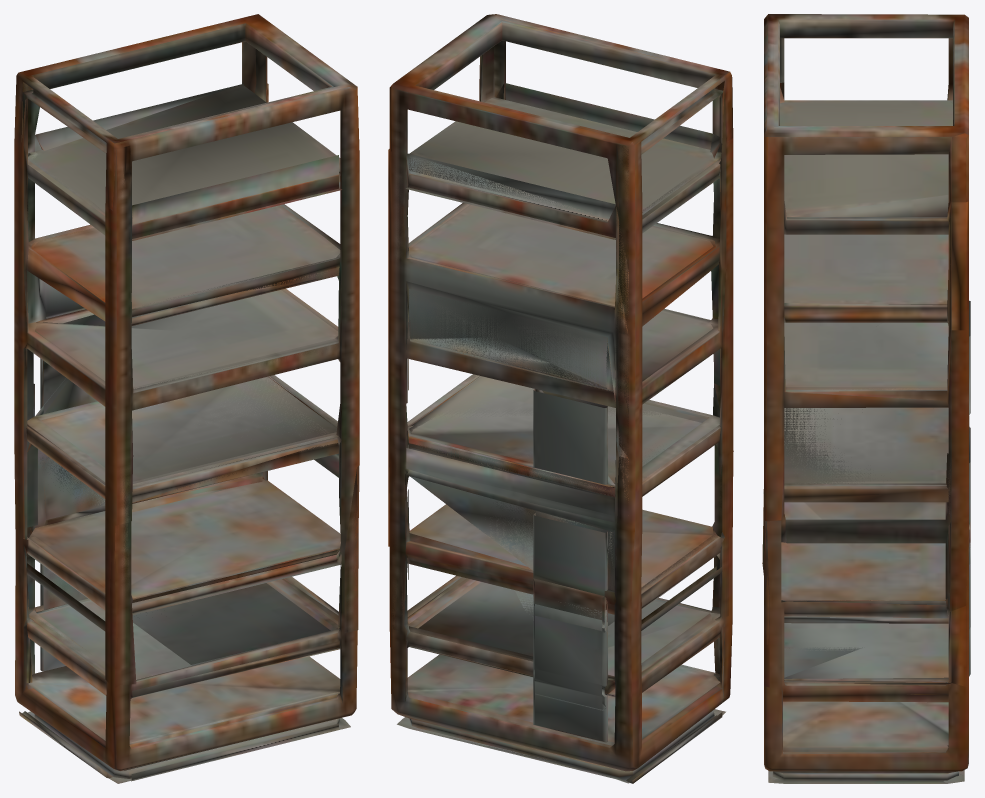
Rendered from shelves.glb.
The picture shows the model from 3 angles, left to right: view 1: azimuth 30°, elevation 25°; view 2: azimuth 150°, elevation 25°; view 3: azimuth 270°, elevation 25°; orthographic projection.
Size of the model in its own units: 0.7789 by 1.94 by 0.5597.
1 material, 1 textured.
